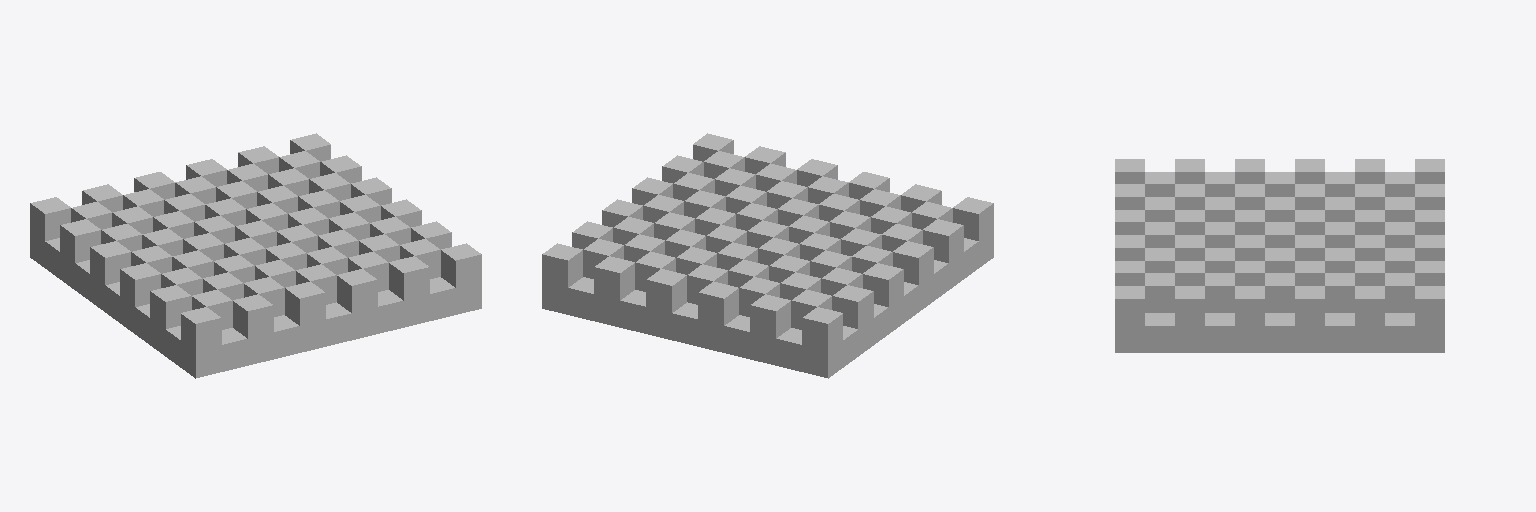
Rendered from mine.obj.
The picture shows the model from 3 angles: view 1: azimuth 30°, elevation 25°; view 2: azimuth 150°, elevation 25°; view 3: azimuth 270°, elevation 25°; orthographic projection.
Parts seen in each view (by area): view 1: object 1; view 2: object 1; view 3: object 1.
Boxes of the visible parts, x1,y1,x2,y2 form: object 1: [30, 133, 481, 378]; object 1: [542, 133, 993, 378]; object 1: [1115, 159, 1444, 352].
Bounding box in the file's own units: 1.1 × 0.2 × 1.1.